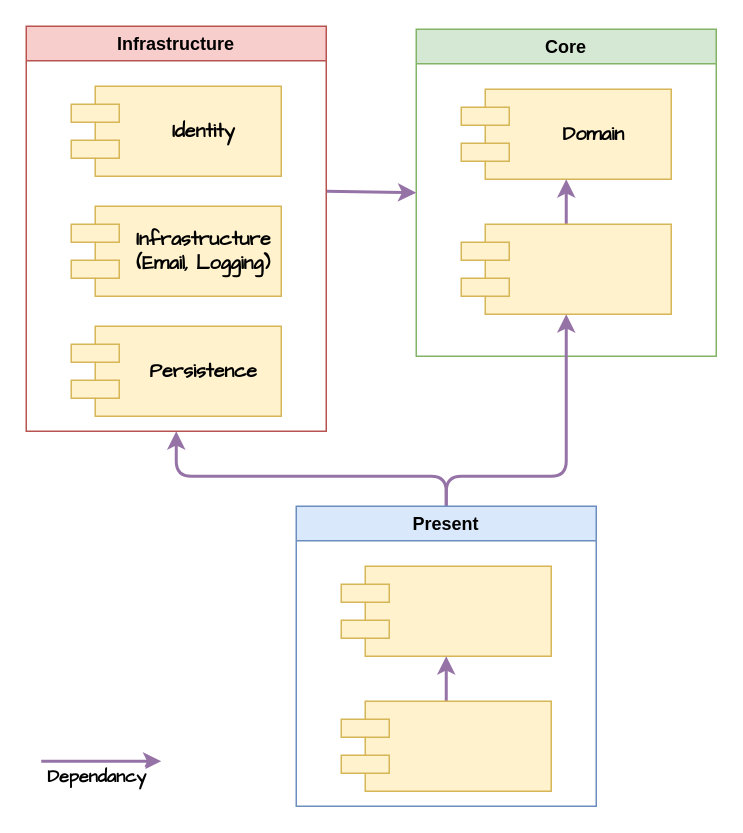
Some shapes in this 743 by 833 pixel diagram are drawn without their labels. Each missing label, with the centre of its shape:
API: the point at 445,610
Application: the point at 565,268
UI: the point at 445,745
